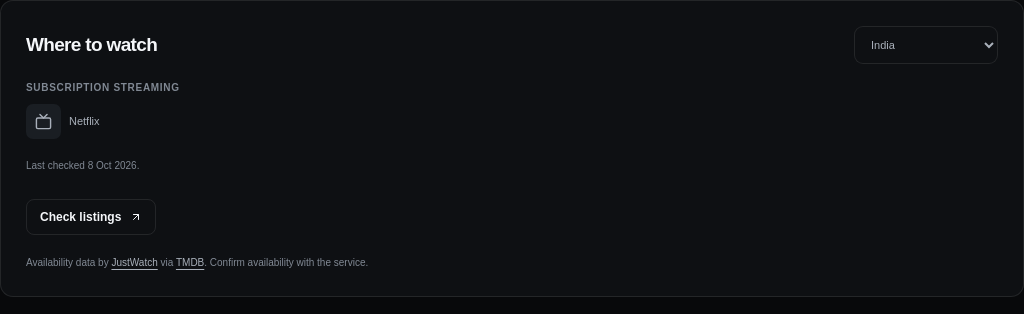
changes region and describes unlisted data without claiming global unavailability
Select "United States" in the dropdown named "Streaming region" at (926, 45), box [854, 26, 998, 64]
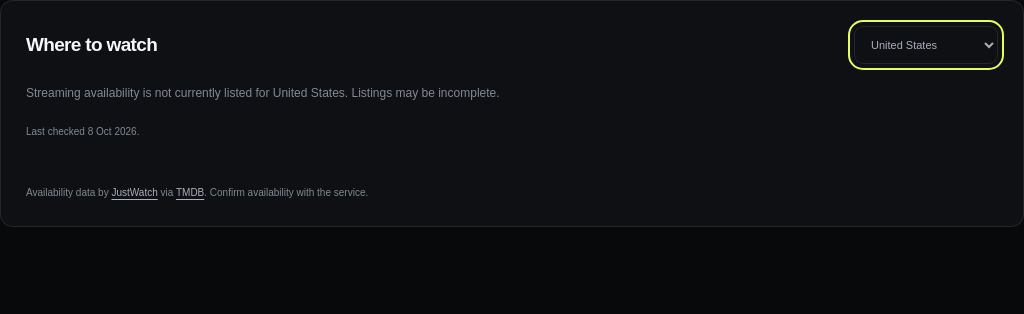
expect the text "Netflix" is gone: met
